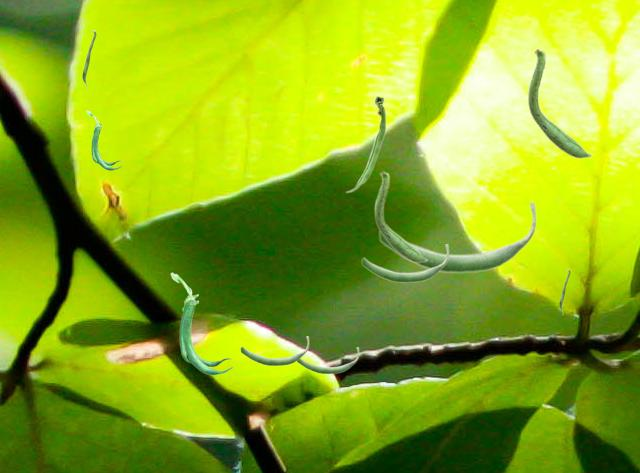french_bean: (378, 203, 536, 273), (527, 47, 591, 158), (170, 272, 232, 374), (374, 170, 427, 262), (345, 95, 385, 192), (361, 244, 448, 282), (86, 110, 121, 169), (240, 336, 308, 365), (296, 347, 358, 373), (82, 30, 95, 89), (559, 269, 569, 314)
